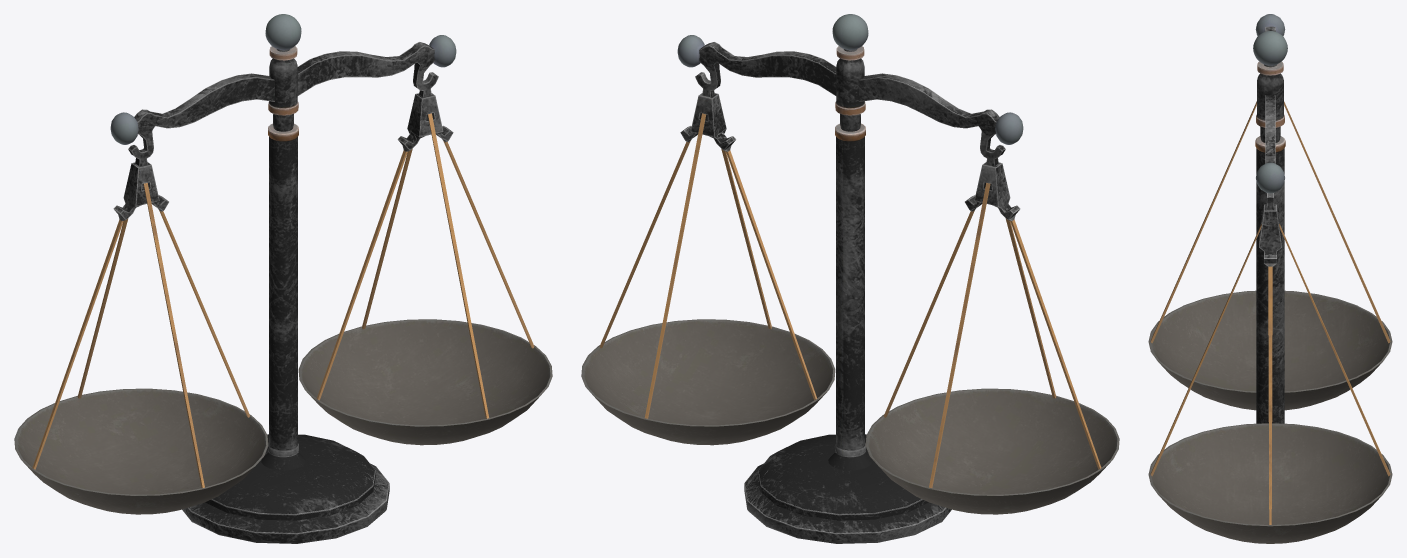
The picture shows the model from 3 angles, left to right: view 1: azimuth 30°, elevation 25°; view 2: azimuth 150°, elevation 25°; view 3: azimuth 270°, elevation 25°; orthographic projection. The views are drawn at different scales.
Parts seen in each view (by area): view 1: scales_0; view 2: scales_0; view 3: scales_0.
Part boxes in pixels (box(x1,y1,x2,y2)): scales_0: box(14, 14, 552, 543); scales_0: box(581, 14, 1119, 543); scales_0: box(1148, 14, 1392, 543).
Size of the model in its own units: 3.86 by 3.54 by 1.69.
1 material, 1 textured.
